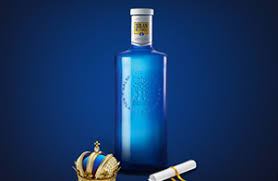solan de cabras: (108, 2, 172, 174)
